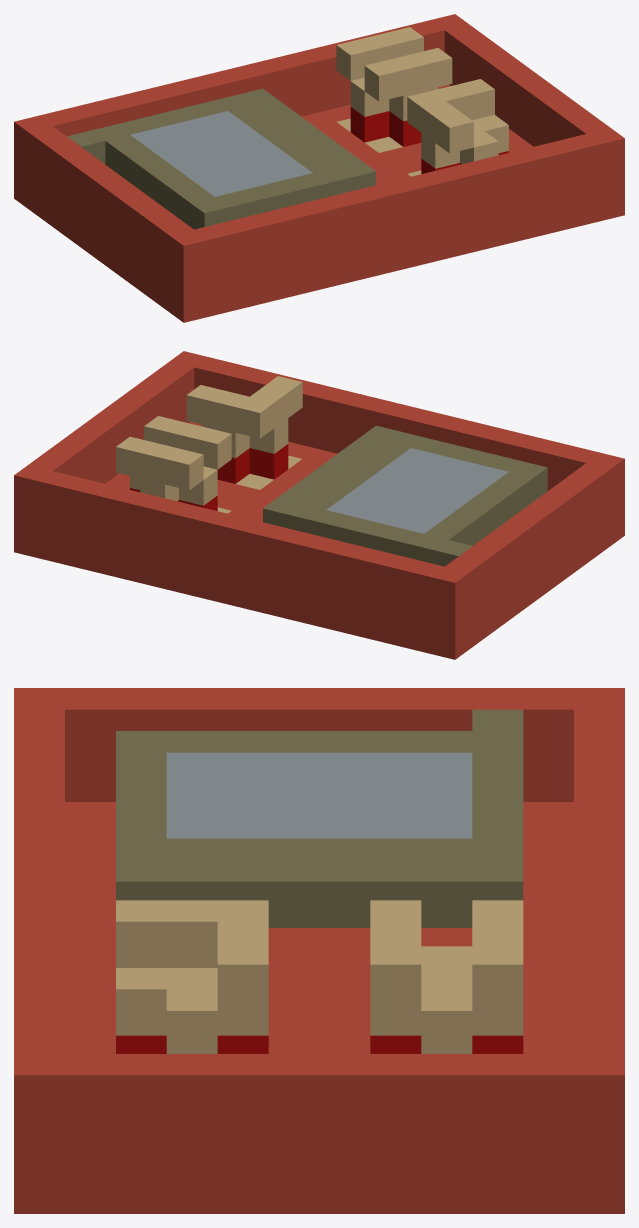
File: sewing_repair_kit.glb
The picture shows the model from 3 angles, top to bottom: view 1: azimuth 30°, elevation 25°; view 2: azimuth 150°, elevation 25°; view 3: azimuth 270°, elevation 25°; orthographic projection. The views are drawn at different scales.
Visible parts, largest first — view 1: equipment:repairKit; view 2: equipment:repairKit; view 3: equipment:repairKit.
Part boxes in pixels (left/top/right/bottom): equipment:repairKit: left=14, top=14, right=624, bottom=322; equipment:repairKit: left=14, top=351, right=624, bottom=659; equipment:repairKit: left=14, top=688, right=624, bottom=1213.
Size of the model in its own units: 0.18 by 0.04 by 0.12.
